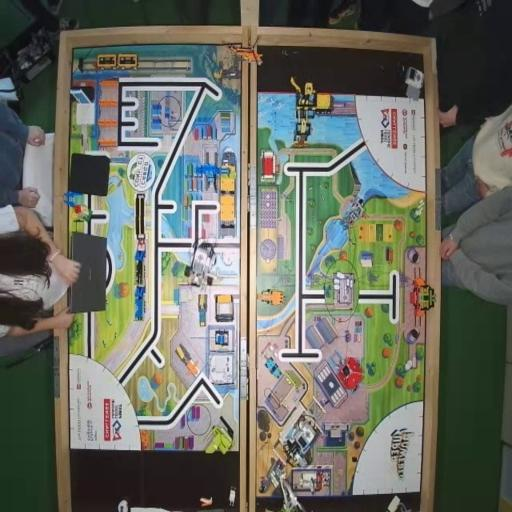lego_robot: (278, 412, 322, 472), (187, 237, 219, 291)
